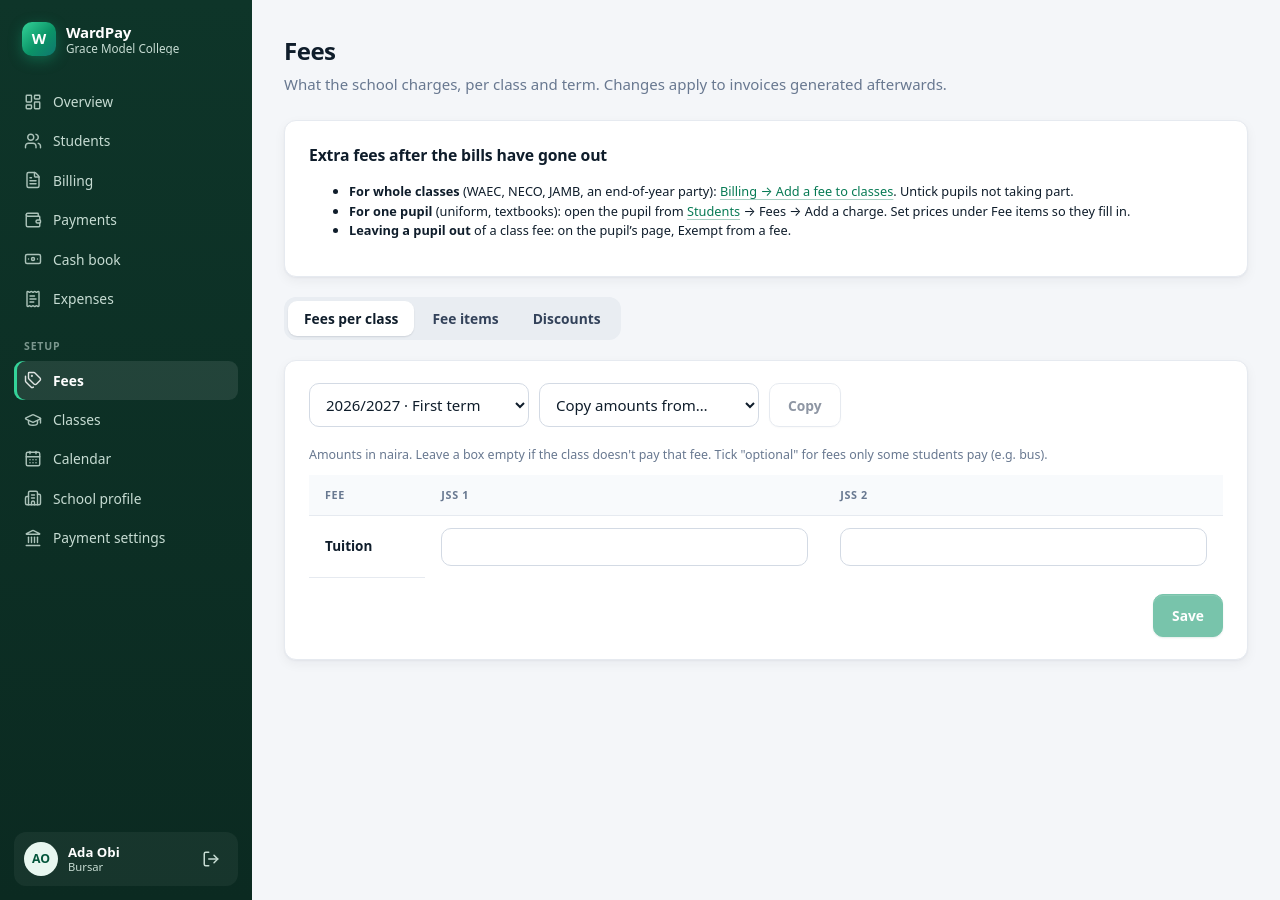
it: fees and billing › blocks saving an invalid amount
The image size is (1280, 900).
Type "12.345" into the field named "Tuition for JSS 1".
click(625, 547); type("12.345")  # box [441,528,808,566]
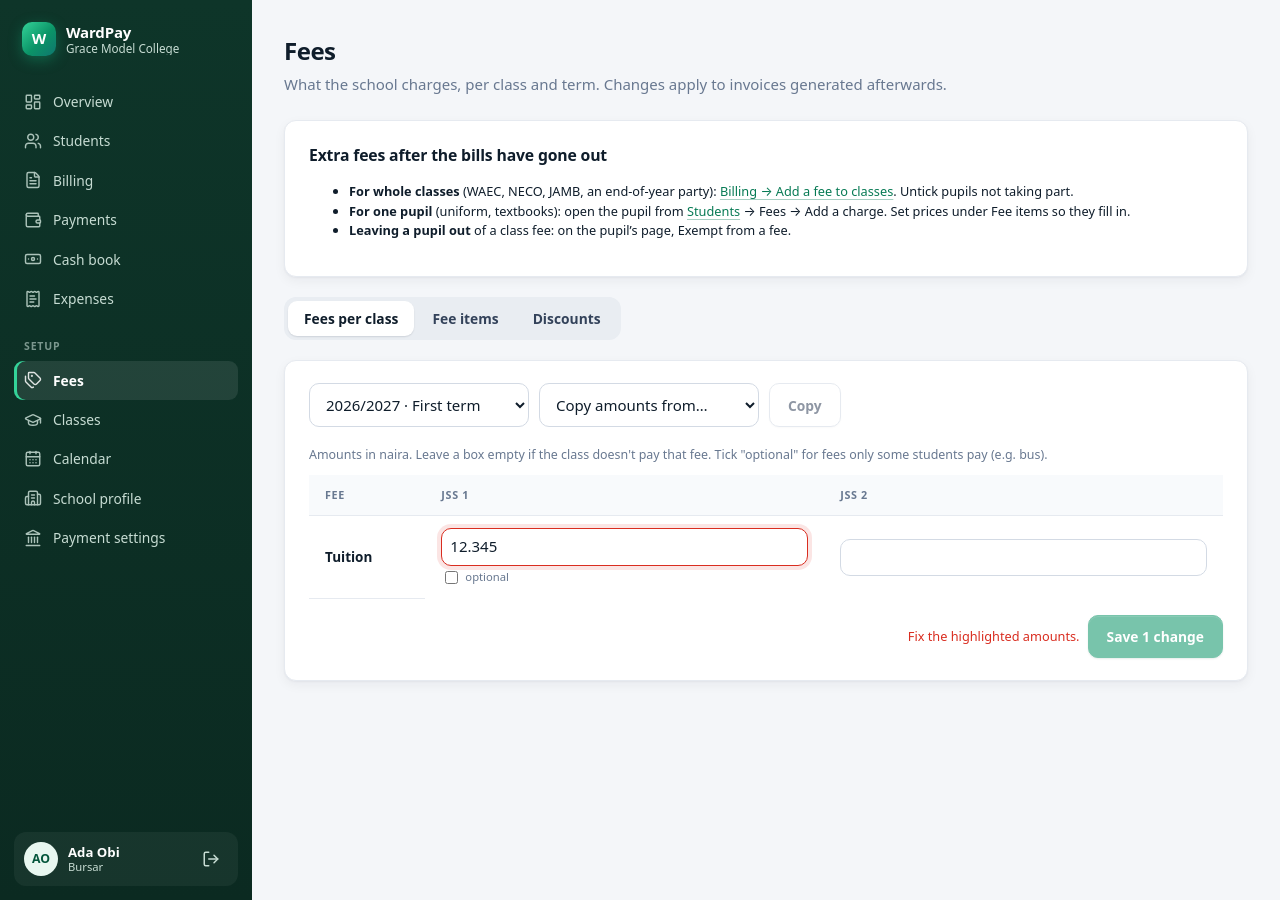
Check: the button "Save 1 change" is disabled, box [1088,615,1223,658]
Check: the text "Fix the highlighted amounts." is shown, box [908,627,1080,647]
